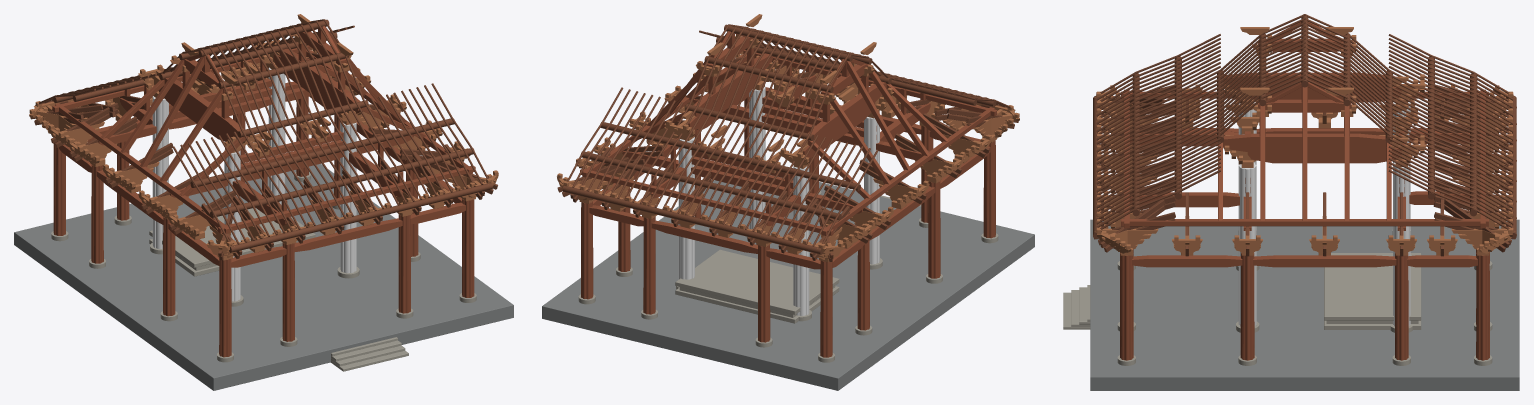
The model's file is baoguosi-hall-stage02-beam-frame.fbx.
3 views of the same model, side by side, from view 1: azimuth 30°, elevation 25°; view 2: azimuth 150°, elevation 25°; view 3: azimuth 270°, elevation 25° (orthographic). The views are drawn at different scales.
Parts seen in each view (by area): view 1: 台基_参考平面边界, 槫_00_标高中5.650, 槫_01_标高中6.645, 槫_02_标高中7.365, 山面承托枋, 佛坛_须弥座轮廓.002, 檐柱_00, 檐柱_20, 檐柱_30, 檐柱_10, 檐柱_02, 横向阑额_10 (+37 smaller); view 2: 台基_参考平面边界, 佛坛_须弥座轮廓.002, 槫_10_标高中5.650, 槫_09_标高中6.645, 槫_08_标高中7.365, 山面承托枋, 檐柱_03, 檐柱_23, 檐柱_01, 檐柱_33, 檐柱_13, 横向阑额_13 (+35 smaller); view 3: 台基_参考平面边界, 佛坛_须弥座轮廓.002, 山面承托枋.001, 中三椽栿_主梁.001, 前三椽栿_中三椽栿_后乳栿_21, 山面阑额_31, 檐柱_31, 檐柱_30, 檐柱_33, 檐柱_32, 山面阑额_30, 中三椽栿_主梁 (+26 smaller).
Part boxes in pixels (x1=…): 台基_参考平面边界: x1=14, y1=163, x2=513, y2=390; 槫_00_标高中5.650: x1=229, y1=183, x2=492, y2=252; 槫_01_标高中6.645: x1=210, y1=148, x2=474, y2=217; 槫_02_标高中7.365: x1=190, y1=118, x2=454, y2=187; 山面承托枋: x1=55, y1=103, x2=230, y2=233; 佛坛_须弥座轮廓.002: x1=149, y1=208, x2=315, y2=267; 檐柱_00: x1=219, y1=259, x2=231, y2=357; 檐柱_20: x1=398, y1=214, x2=410, y2=313; 檐柱_30: x1=462, y1=199, x2=474, y2=297; 檐柱_10: x1=282, y1=242, x2=294, y2=341; 檐柱_02: x1=91, y1=164, x2=103, y2=263; 横向阑额_10: x1=294, y1=218, x2=402, y2=251; 台基_参考平面边界: x1=542, y1=166, x2=1034, y2=390; 佛坛_须弥座轮廓.002: x1=675, y1=249, x2=839, y2=314; 槫_10_标高中5.650: x1=562, y1=186, x2=822, y2=254; 槫_09_标高中6.645: x1=580, y1=151, x2=841, y2=220; 槫_08_标高中7.365: x1=600, y1=122, x2=860, y2=190; 山面承托枋: x1=821, y1=107, x2=994, y2=235; 檐柱_03: x1=820, y1=260, x2=832, y2=357; 檐柱_23: x1=643, y1=216, x2=655, y2=314; 檐柱_01: x1=928, y1=181, x2=940, y2=278; 檐柱_33: x1=581, y1=201, x2=593, y2=299; 檐柱_13: x1=758, y1=244, x2=770, y2=342; 横向阑额_13: x1=651, y1=220, x2=757, y2=253; 台基_参考平面边界: x1=1090, y1=219, x2=1519, y2=390; 佛坛_须弥座轮廓.002: x1=1324, y1=253, x2=1421, y2=320; 山面承托枋.001: x1=1121, y1=219, x2=1488, y2=226; 中三椽栿_主梁.001: x1=1223, y1=133, x2=1386, y2=151; 前三椽栿_中三椽栿_后乳栿_21: x1=1247, y1=146, x2=1401, y2=163; 山面阑额_31: x1=1252, y1=255, x2=1396, y2=267; 檐柱_31: x1=1240, y1=253, x2=1254, y2=360; 檐柱_30: x1=1120, y1=253, x2=1133, y2=360; 檐柱_33: x1=1476, y1=253, x2=1489, y2=360; 檐柱_32: x1=1395, y1=253, x2=1408, y2=360; 山面阑额_30: x1=1132, y1=255, x2=1242, y2=267; 中三椽栿_主梁: x1=1224, y1=72, x2=1385, y2=91.
Size of the model in its own units: 14.6 by 11.5 by 17.85.
